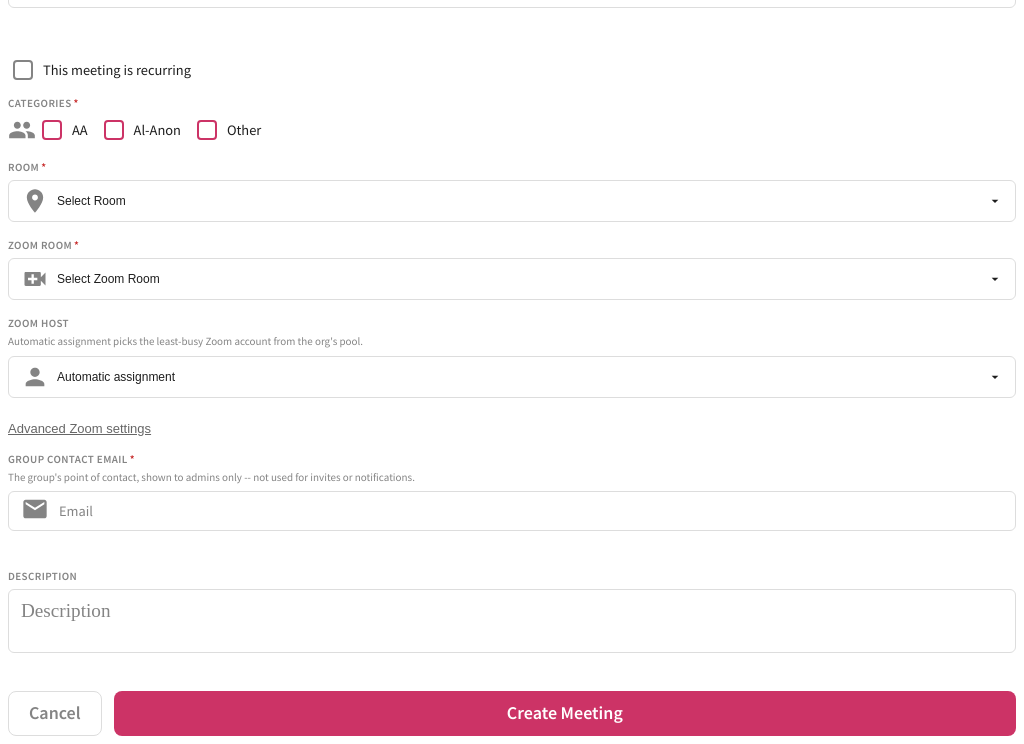
Test: advanced Zoom settings disclosure › collapsed by default for a Zoom-bearing mode, revealing its fields on toggle
(page scrolled)
Check: the field with placeholder "Custom passcode" is not shown
Step 1. Click the button "Advanced Zoom settings" → (80, 428), box x1=8 y1=421 x2=1016 y2=436
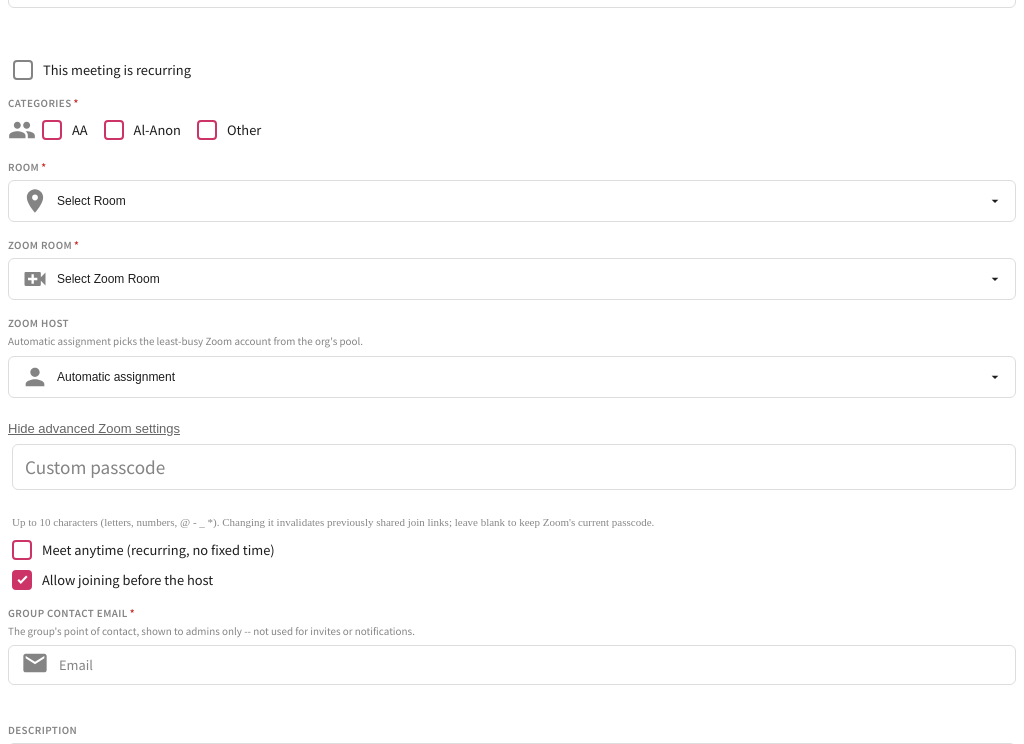
Check: the button "Hide advanced Zoom settings" is expanded, box x1=8 y1=421 x2=1016 y2=436
Check: the field with placeholder "Custom passcode" is shown, box x1=25 y1=445 x2=1003 y2=489
Check: the checkbox labelled "Meet anytime (recurring, no fixed time)" is not checked, box x1=12 y1=540 x2=275 y2=560
